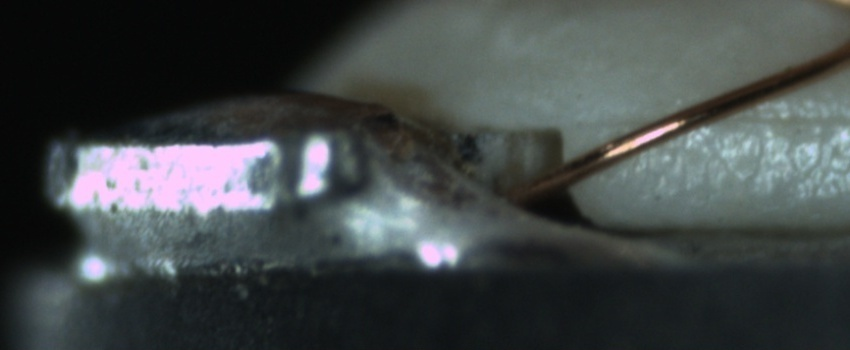DL: (602, 88, 849, 152)
